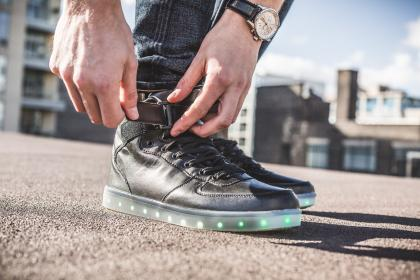Footwear: (104, 98, 325, 240)
